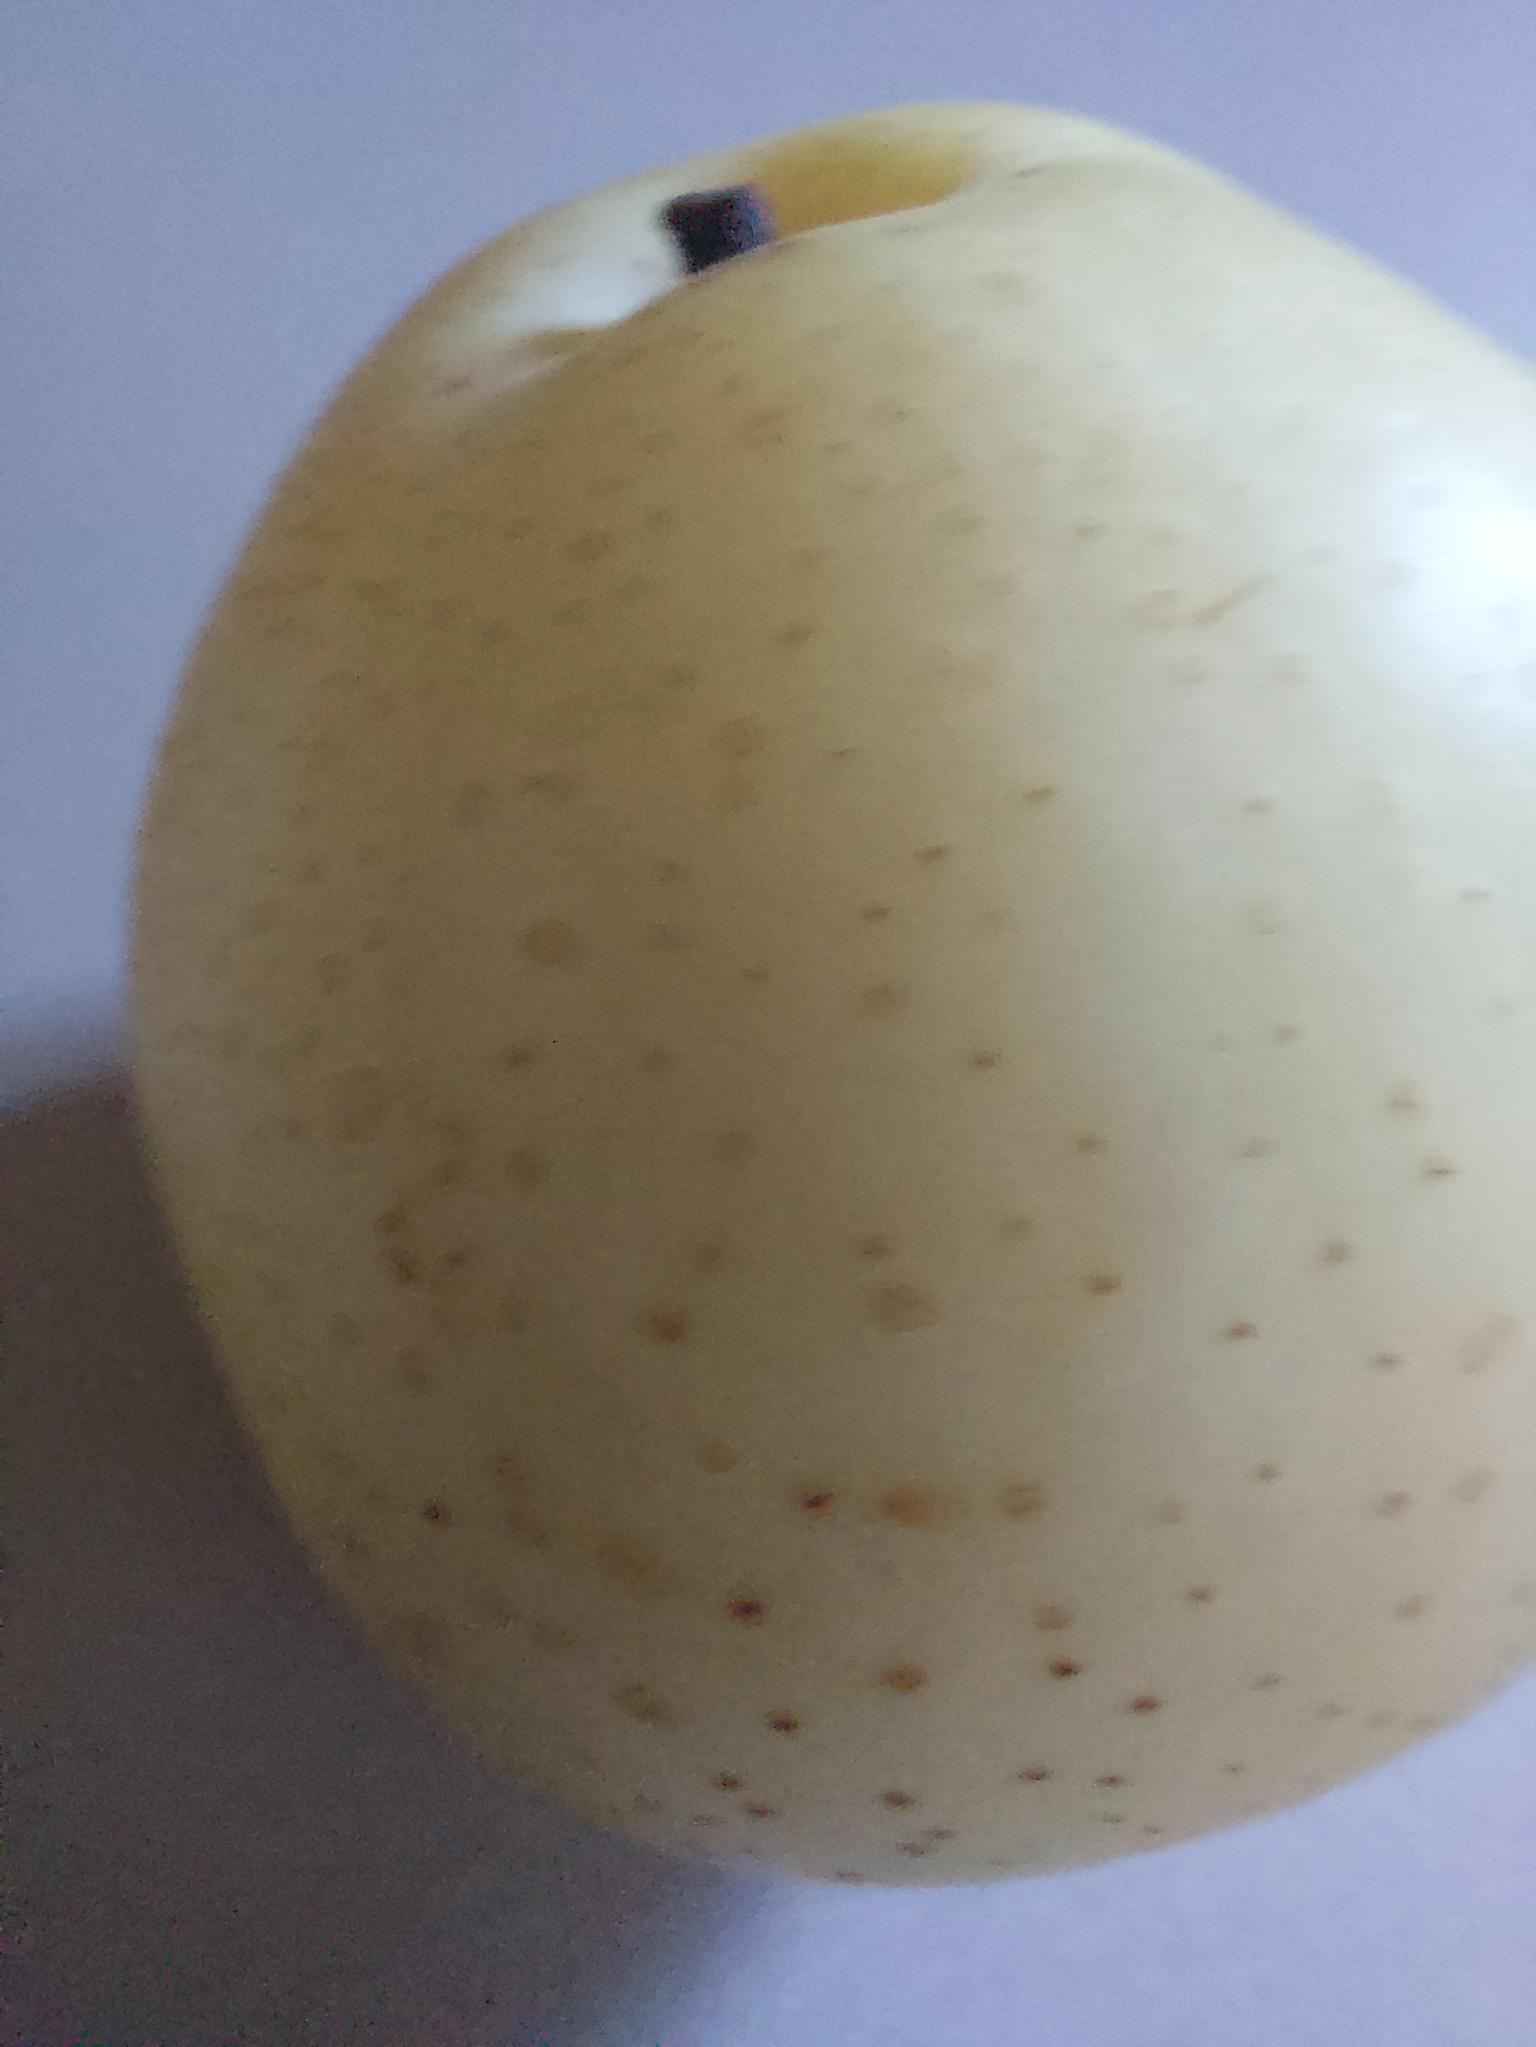Good Pear: (65, 53, 1536, 1995)
